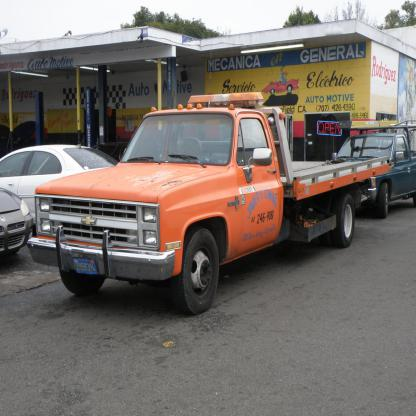Car: (0, 143, 119, 224), (0, 189, 34, 254)
Truck: (27, 92, 395, 314), (331, 120, 415, 219)
